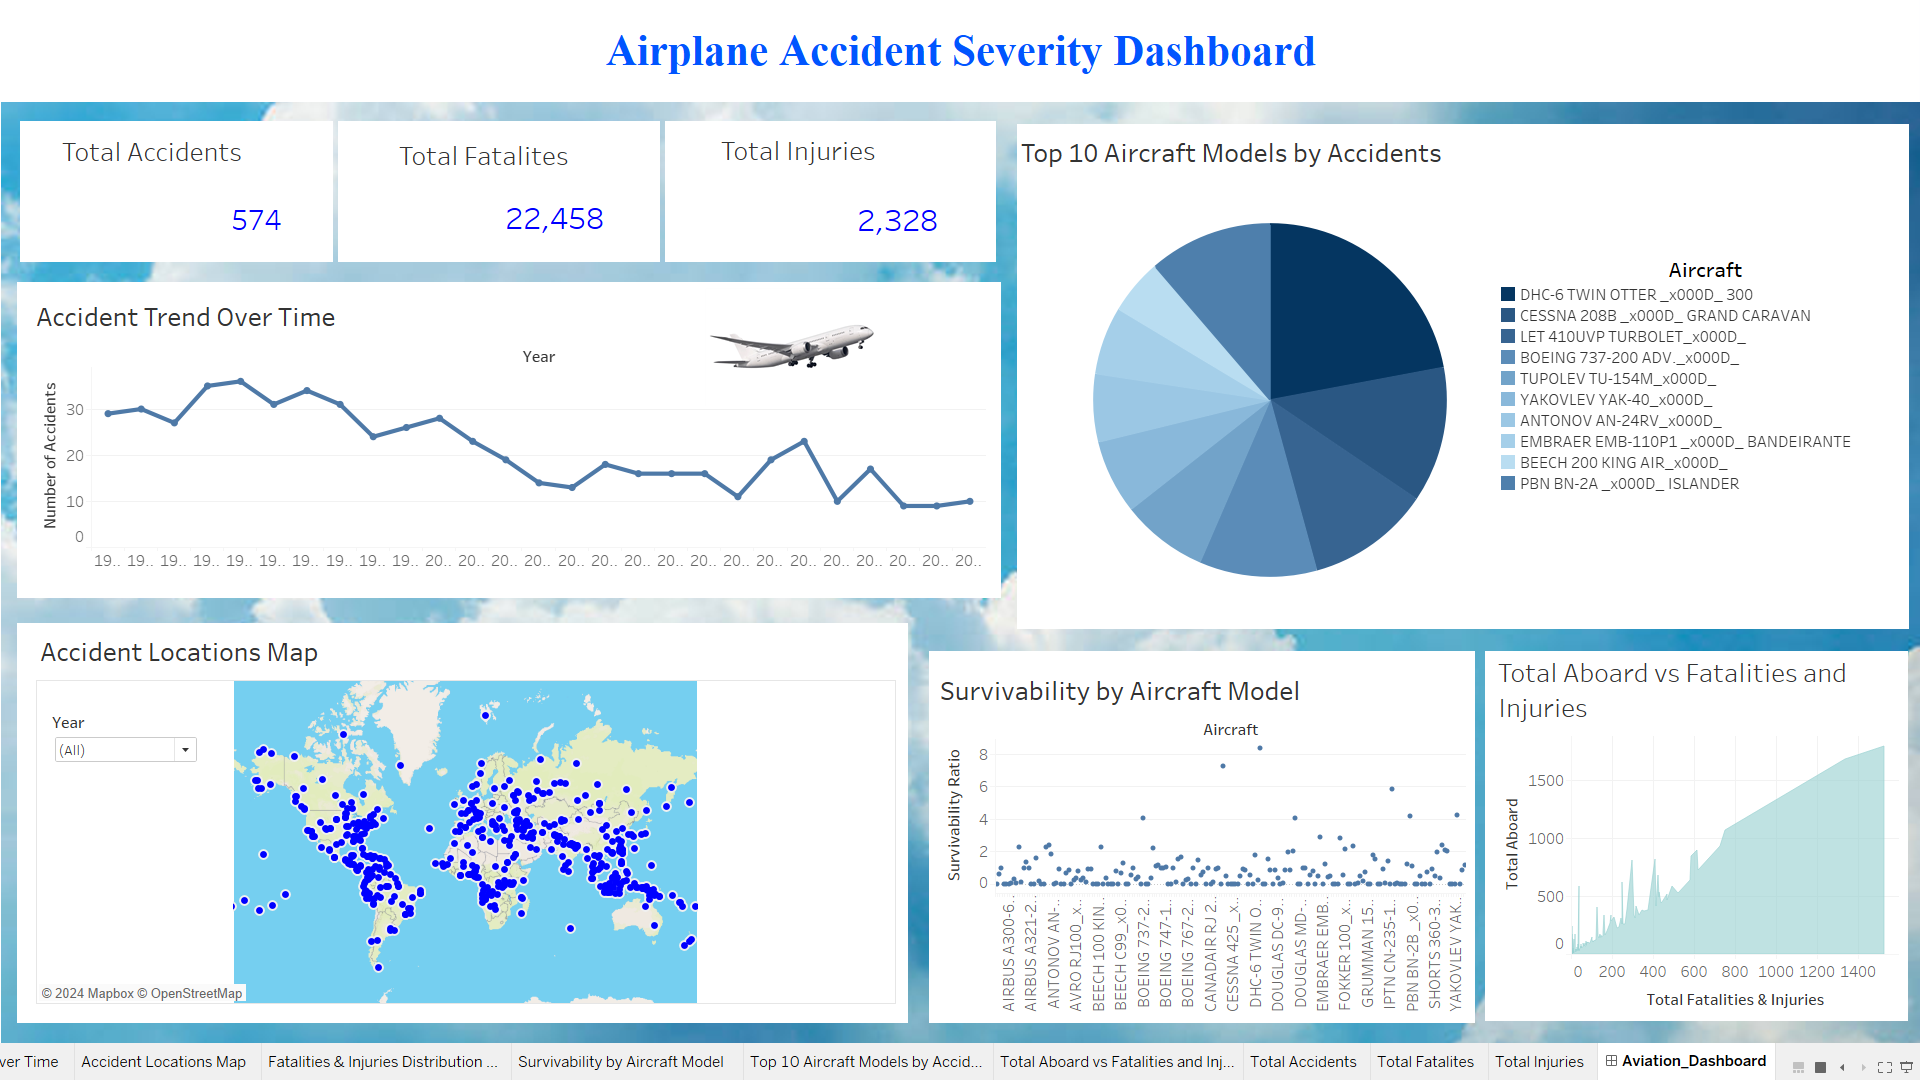

What the dashboard file says about the page in this screenshot:
{"tool":"tableau","page":{"name":"Aviation_Dashboard","canvas":[1000,1000],"units":"permille","ordinal":0},"visuals":[{"type":"blank","box":[10.3,116.3,163,135.1]},{"type":"blank","box":[176.2,116.3,167.8,135.1]},{"type":"blank","box":[346.4,116.3,172.6,135.1]},{"type":"blank","box":[529.9,118.7,464.7,484.1]},{"type":"worksheet","title":"Total Injuries","mark":"Text","box":[373.6,123.4,117.1,125.7]},{"type":"worksheet","title":"Total Accidents","mark":"Text","box":[30.2,124.6,118.9,123.4]},{"type":"worksheet","title":"Top 10 Aircraft Models by Accidents","mark":"Pie","box":[529.9,125.7,263.7,467.7]},{"type":"worksheet","title":"Total Fatalites","mark":"Text","box":[205.8,128.1,111,112.8]},{"type":"legend","title":"Top 10 Aircraft Models by Accidents","param":"[federated.0qgl4561ye556m12hy6kv098jmuu].[none:Aircraft:nk]","box":[780.3,244.4,216.1,347.8]},{"type":"blank","box":[9.1,270.3,512.4,303.2]},{"type":"image","param":"D:/Ishita/Class/PG Diploma in AI and MLT/Semester 1/R Programming/R Case Study/W","box":[366.9,276.2,92.9,123.4]},{"type":"worksheet","title":"Accident Trend Over Time","mark":"Line","rows":["Calculation_1394145622884769793"],"cols":["Calculation_1394145622882189312"],"box":[16.9,283.2,496.7,272.6]},{"type":"blank","box":[9.1,596.9,464.1,384.2]},{"type":"worksheet","title":"Accident Locations Map","mark":"Automatic","rows":["Latitude"],"cols":["Longitude"],"box":[18.7,604,447.8,358.4]},{"type":"blank","box":[484,624,284.2,357.2]},{"type":"blank","box":[773.7,624,220.3,354.9]},{"type":"worksheet","title":"Total Aboard vs Fatalities and Injuries","mark":"Area","rows":["Calculation_1194298389535748102"],"cols":["Calculation_1194298389551595532"],"box":[777.9,624,211.2,351.4]},{"type":"worksheet","title":"Survivability by Aircraft Model","mark":"Circle","rows":["Calculation_1194298389535948808"],"cols":["Aircraft"],"box":[487.6,641.6,275.8,330.2]},{"type":"filter","title":"Accident Locations Map","param":"[federated.0qgl4561ye556m12hy6kv098jmuu].[none:Calculation_1394145622882189312:o","box":[27.2,682.7,77.2,247.9]}]}

Visuals, with their boxes on the dashboard's canvas, which has no fixed pixel size, in thousandths of its width and height (x1, y1, x2, y2). These are canvas units, not pixel positions in the 1920x1080 screenshot, which may show the page scaled, cropped or inside an application window:
blank: x1=10, y1=116, x2=173, y2=251
blank: x1=176, y1=116, x2=344, y2=251
blank: x1=346, y1=116, x2=519, y2=251
blank: x1=530, y1=119, x2=995, y2=603
"Total Injuries" worksheet (Text marks): x1=374, y1=123, x2=491, y2=249
"Total Accidents" worksheet (Text marks): x1=30, y1=125, x2=149, y2=248
"Top 10 Aircraft Models by Accidents" worksheet (Pie marks): x1=530, y1=126, x2=794, y2=593
"Total Fatalites" worksheet (Text marks): x1=206, y1=128, x2=317, y2=241
"Top 10 Aircraft Models by Accidents" legend: x1=780, y1=244, x2=996, y2=592
blank: x1=9, y1=270, x2=522, y2=574
image: x1=367, y1=276, x2=460, y2=400
"Accident Trend Over Time" worksheet (Line marks): x1=17, y1=283, x2=514, y2=556
blank: x1=9, y1=597, x2=473, y2=981
"Accident Locations Map" worksheet: x1=19, y1=604, x2=466, y2=962
blank: x1=484, y1=624, x2=768, y2=981
blank: x1=774, y1=624, x2=994, y2=979
"Total Aboard vs Fatalities and Injuries" worksheet (Area marks): x1=778, y1=624, x2=989, y2=975
"Survivability by Aircraft Model" worksheet (Circle marks): x1=488, y1=642, x2=763, y2=972
"Accident Locations Map" filter: x1=27, y1=683, x2=104, y2=931
